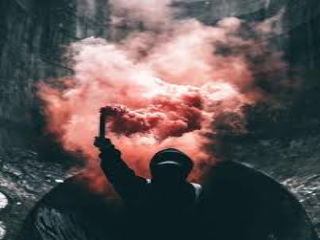smoke: (43, 16, 254, 146)
